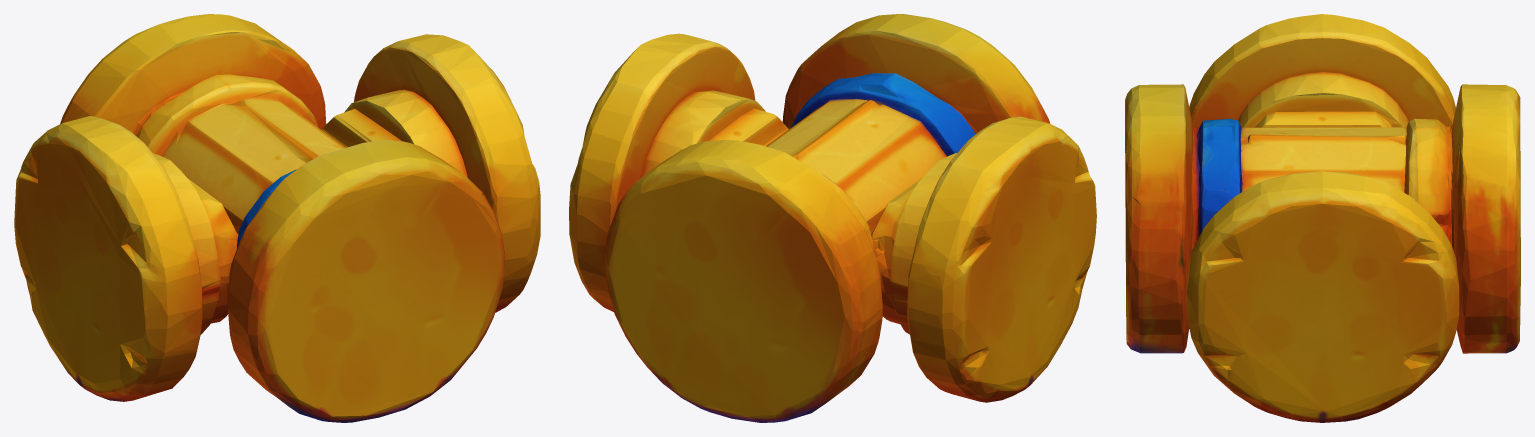
File: desert_log.glb
3 renders of one model, left to right at view 1: azimuth 30°, elevation 25°; view 2: azimuth 150°, elevation 25°; view 3: azimuth 270°, elevation 25°, orthographic. The views are drawn at different scales.
Visible parts, largest first — view 1: world; view 2: world; view 3: world.
Boxes of the visible parts, x1,y1,x2,y2 form: world: [14, 14, 540, 422]; world: [569, 14, 1096, 422]; world: [1125, 14, 1520, 422].
Size of the model in its own units: 0.9993 by 0.6152 by 0.917.
Materials: 1 (1 with a texture image).
